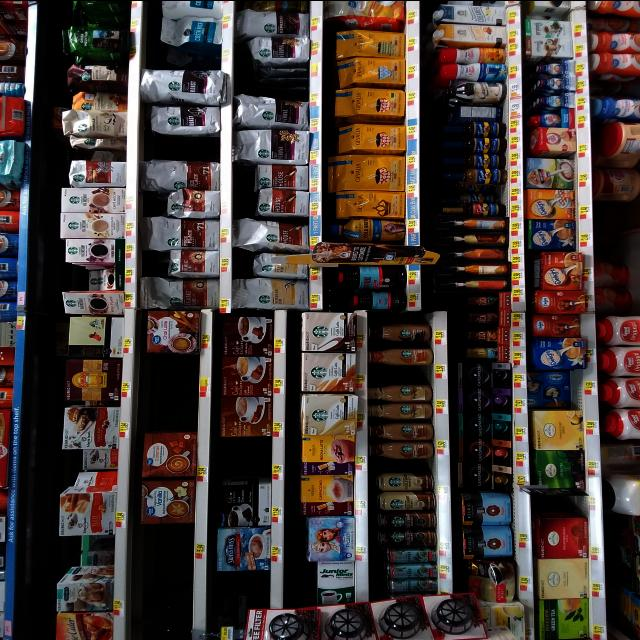empty_space: (141, 532, 191, 638), (142, 358, 194, 422), (608, 201, 640, 251), (226, 573, 262, 611), (229, 441, 265, 475), (158, 137, 214, 152), (255, 73, 298, 91)
